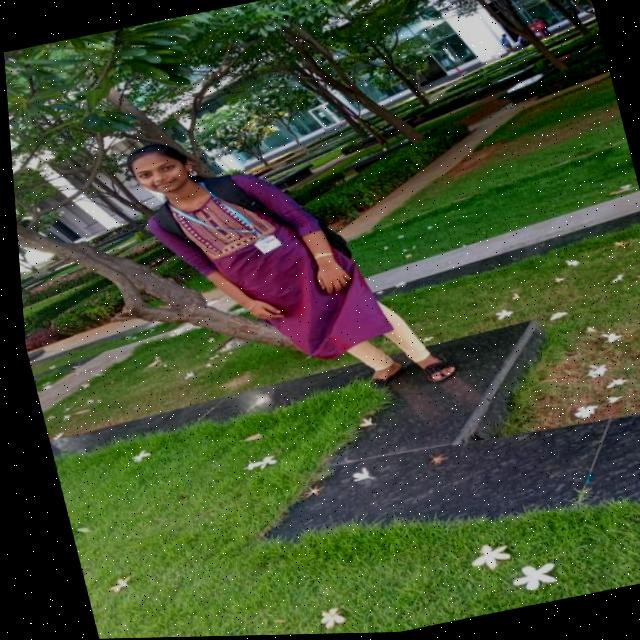id_card: (161, 177, 283, 270)
